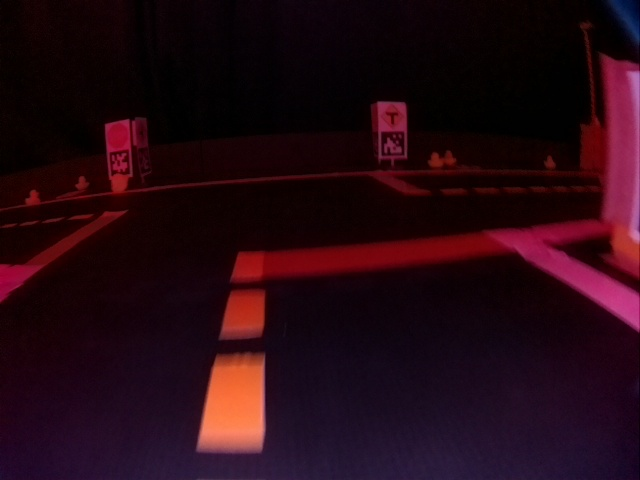Duckie: (25, 190, 39, 204), (428, 153, 442, 166), (544, 154, 556, 169), (444, 152, 456, 164), (78, 176, 86, 190)
Intersection sign: (381, 103, 404, 127)
QR code: (380, 131, 406, 154), (110, 150, 130, 176), (137, 147, 152, 174)
Stop sign: (108, 124, 127, 147)
